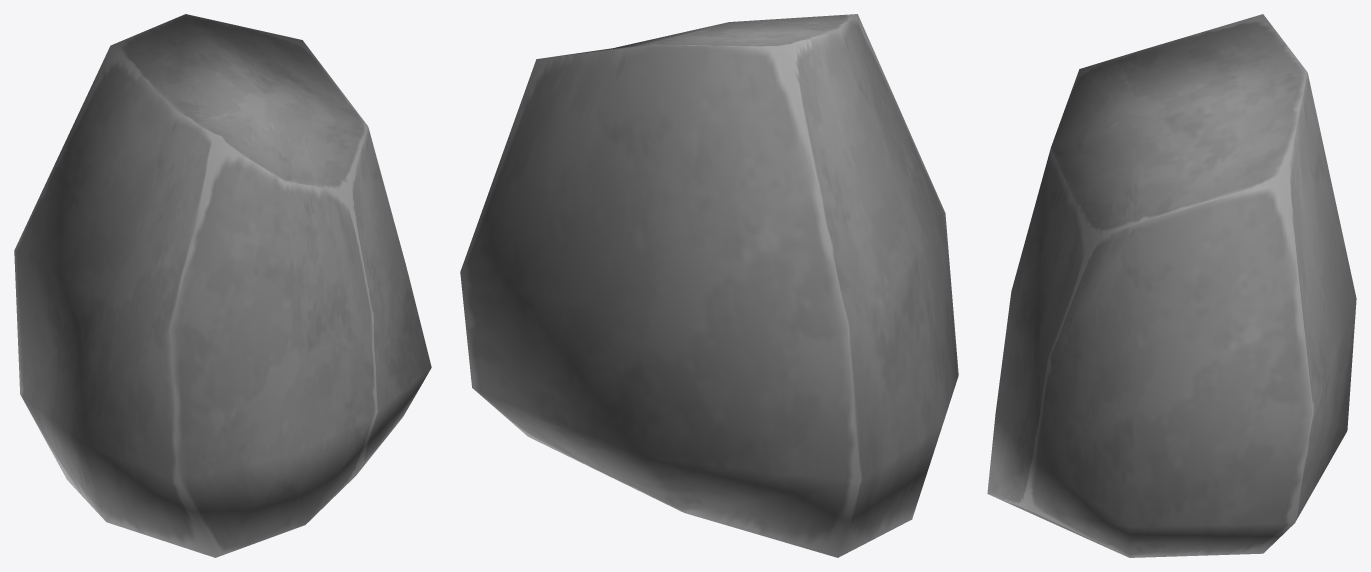
Rendered from assets_rock1.fbx.
3 renders of one model, left to right at view 1: azimuth 30°, elevation 25°; view 2: azimuth 150°, elevation 25°; view 3: azimuth 270°, elevation 25°, orthographic. The views are drawn at different scales.
Parts seen in each view (by area): view 1: assets_rock1; view 2: assets_rock1; view 3: assets_rock1.
Part boxes in pixels (box(x1,y1,x2,y2)): assets_rock1: box(14, 14, 431, 557); assets_rock1: box(460, 14, 958, 557); assets_rock1: box(987, 14, 1356, 557).
Bounding box in the file's own units: 3.11 × 3.76 × 2.67.
